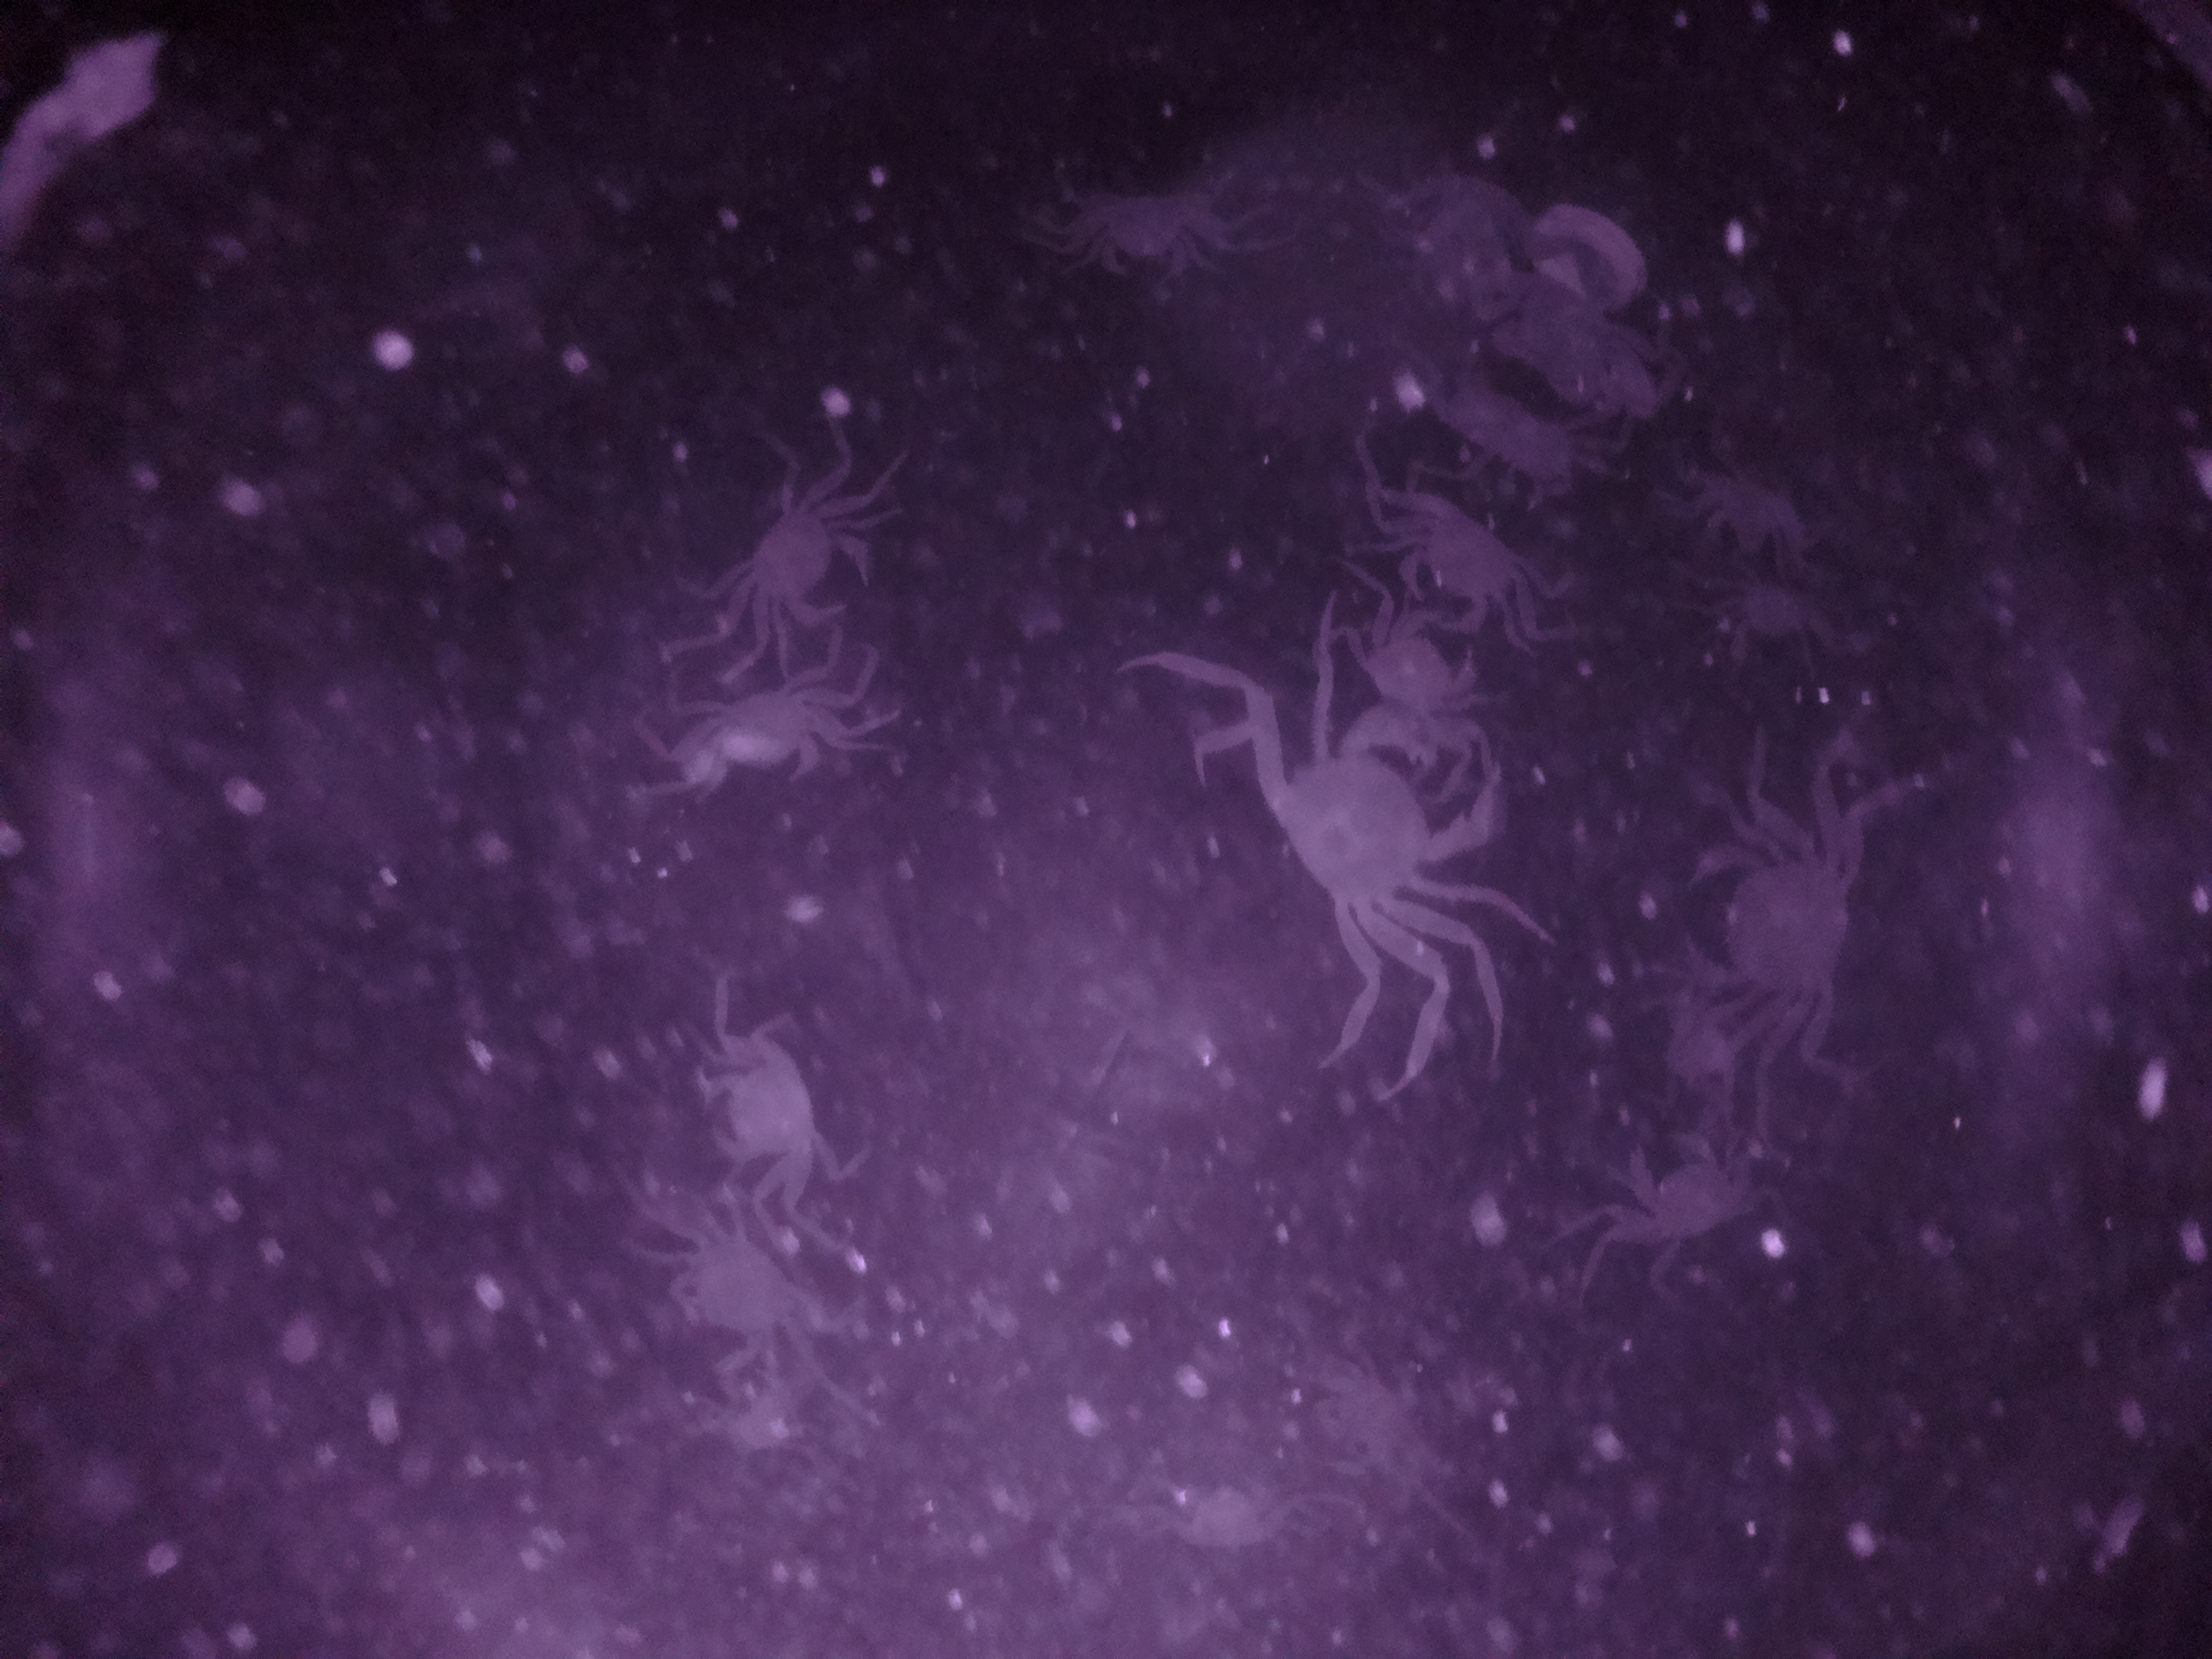Crab: (1238, 680, 1515, 946), (1642, 824, 1878, 1051), (678, 1007, 862, 1197), (711, 471, 888, 655), (1367, 488, 1559, 653), (1585, 1110, 1778, 1274), (681, 662, 862, 816)
